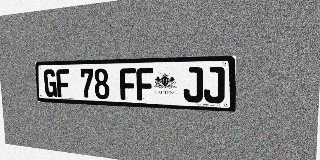7: (79, 69, 95, 99)
8: (94, 68, 110, 99)
F: (136, 68, 154, 101), (120, 68, 136, 100), (56, 69, 70, 98)
G: (43, 69, 57, 97)
J: (204, 67, 225, 104), (183, 67, 203, 103)
